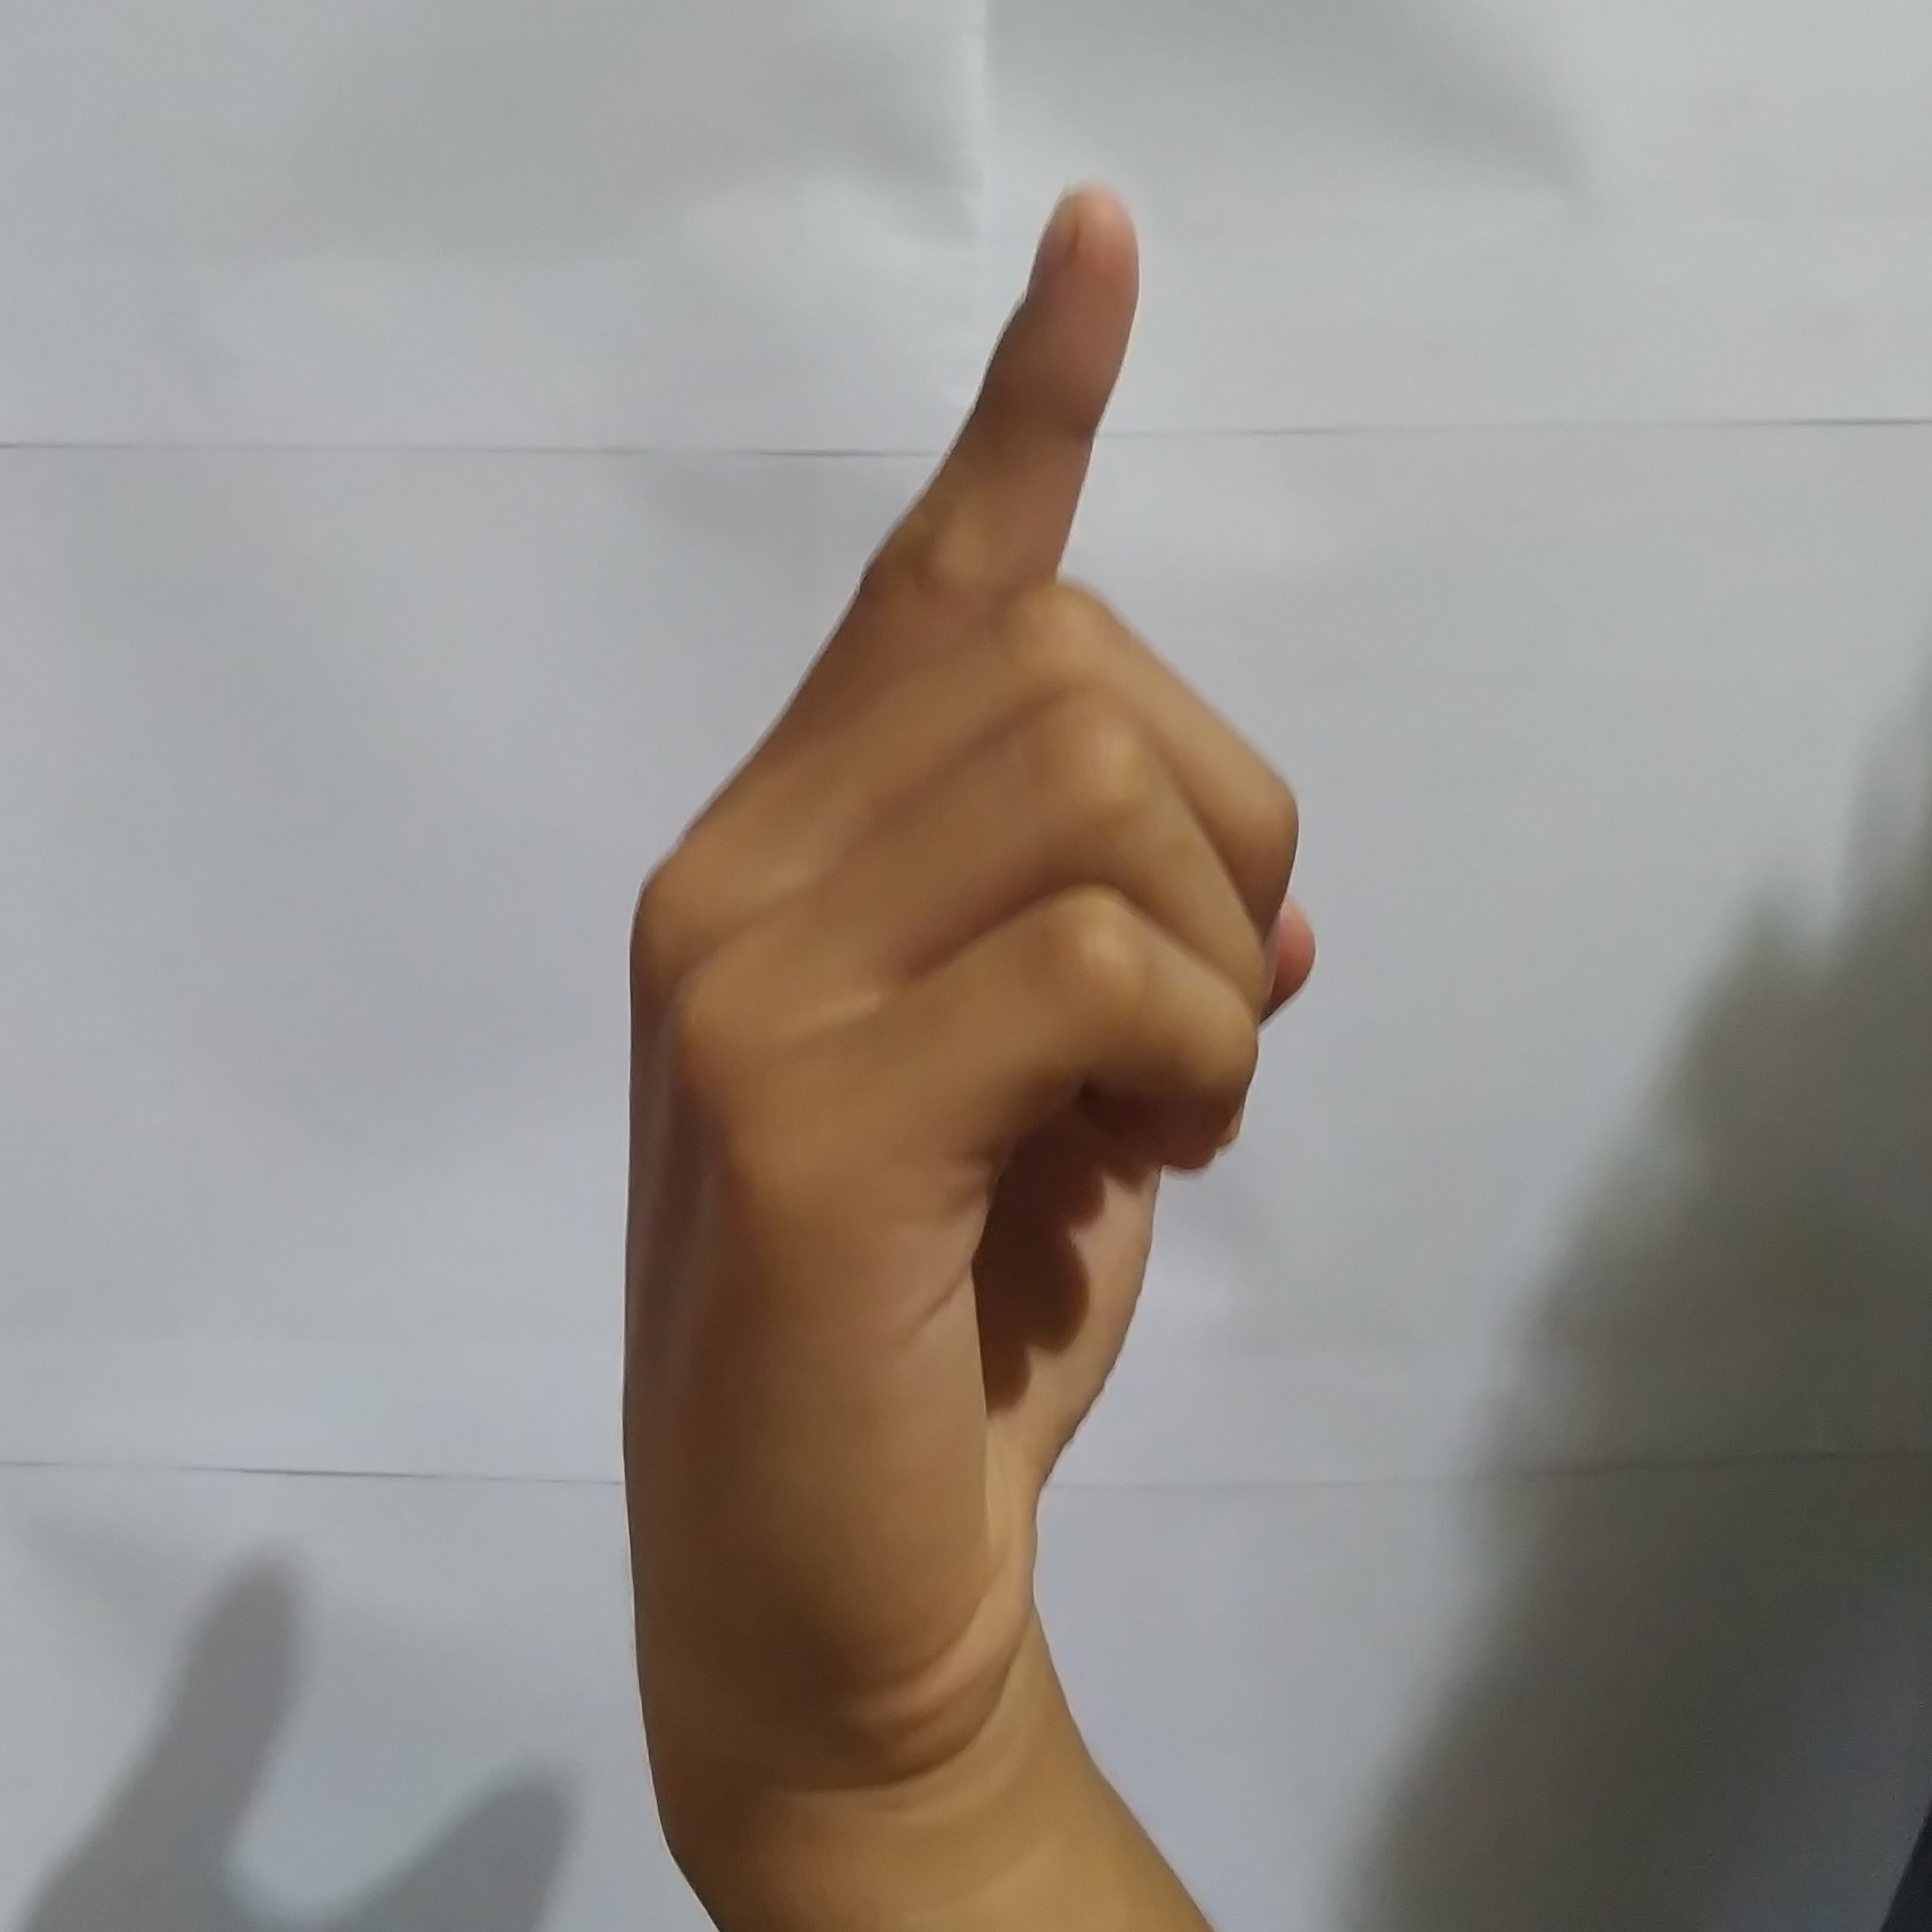D: (598, 152, 1341, 1645)
